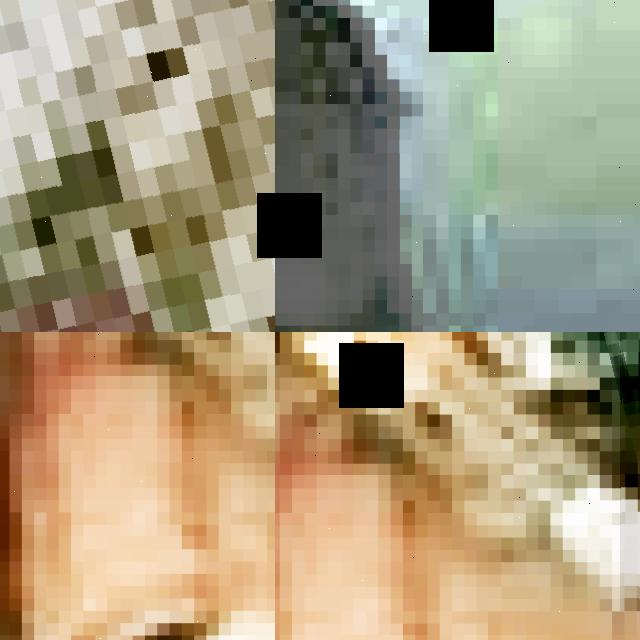arms: (275, 332, 640, 636), (0, 0, 275, 332), (0, 332, 275, 537), (391, 332, 640, 427), (620, 332, 640, 611)
